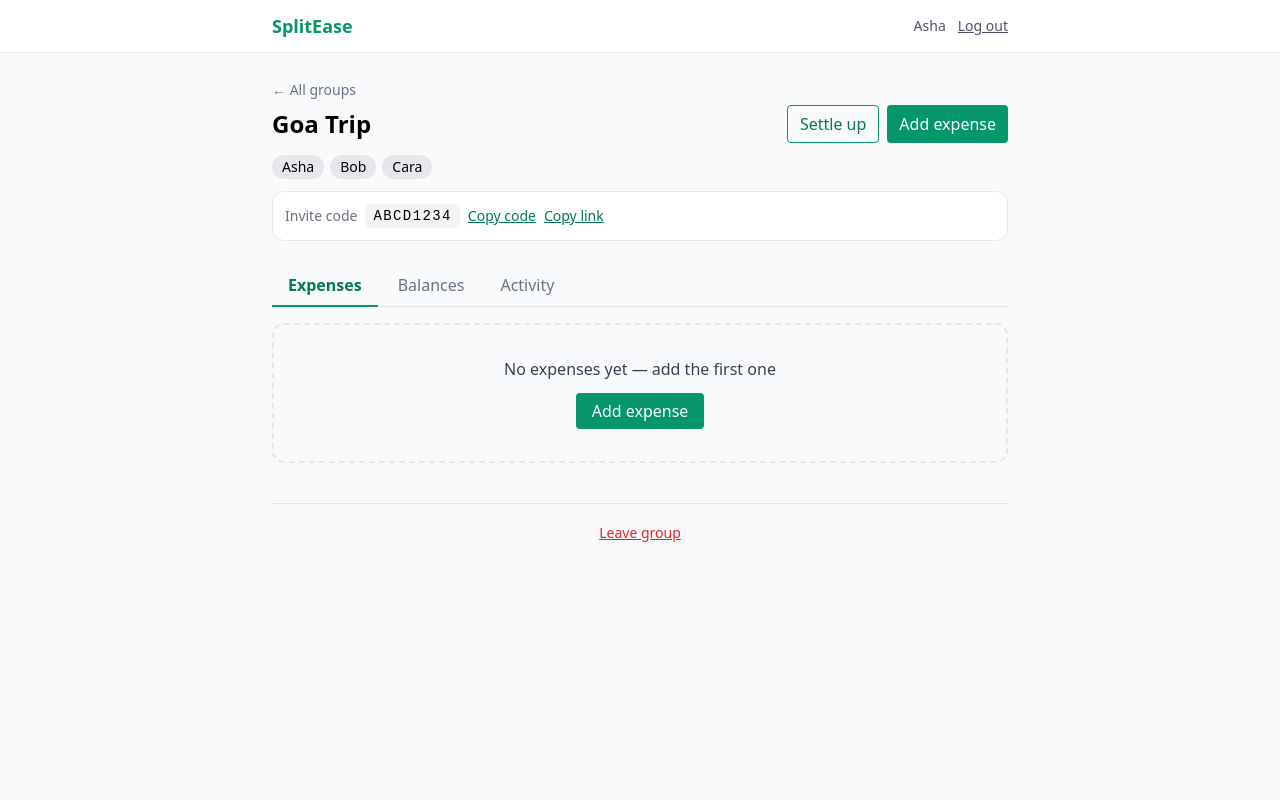
Test: settle up › validates that I am the payer or receiver and the people differ
Click the button "Settle up" at (833, 124), box [787, 105, 879, 143]
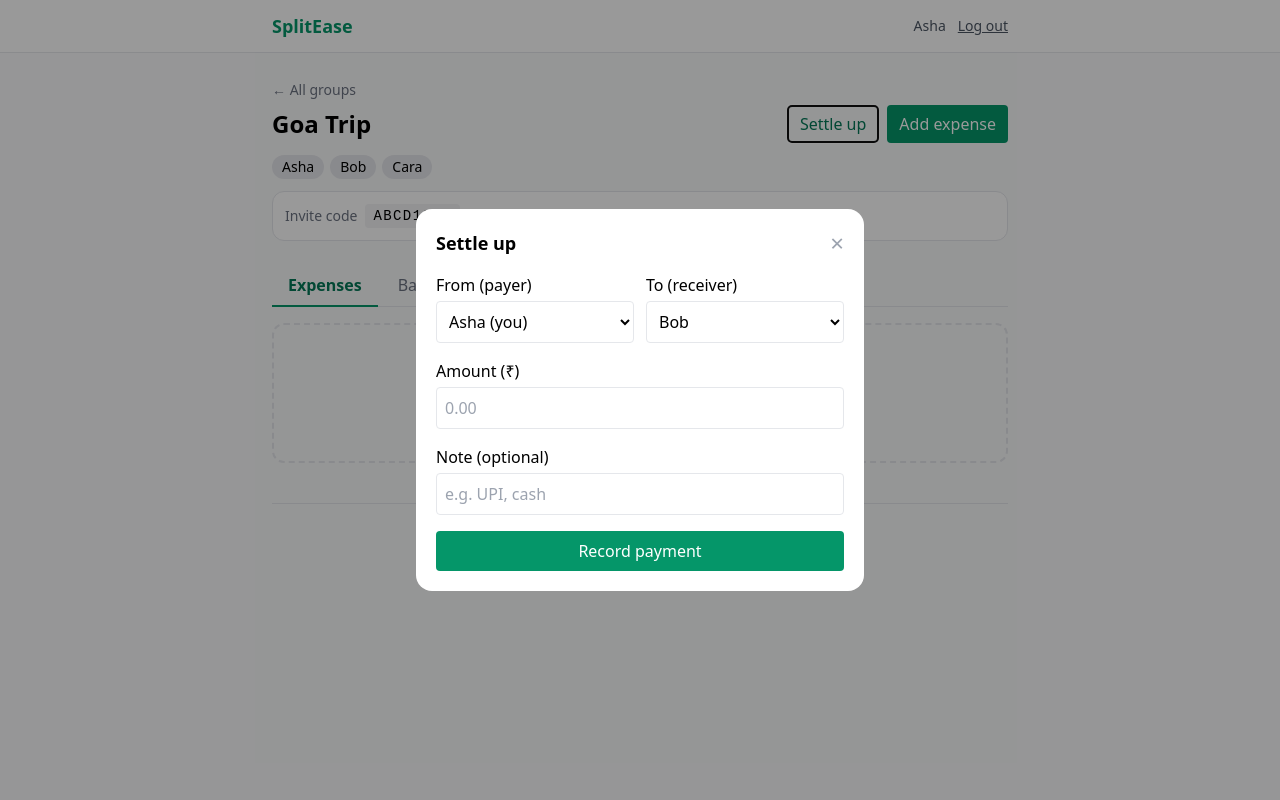
Select "Cara" in the dropdown labelled "From (payer)" at (535, 322), box [436, 301, 634, 343]
Select "Bob" in the dropdown labelled "To (receiver)" at (745, 322), box [646, 301, 844, 343]
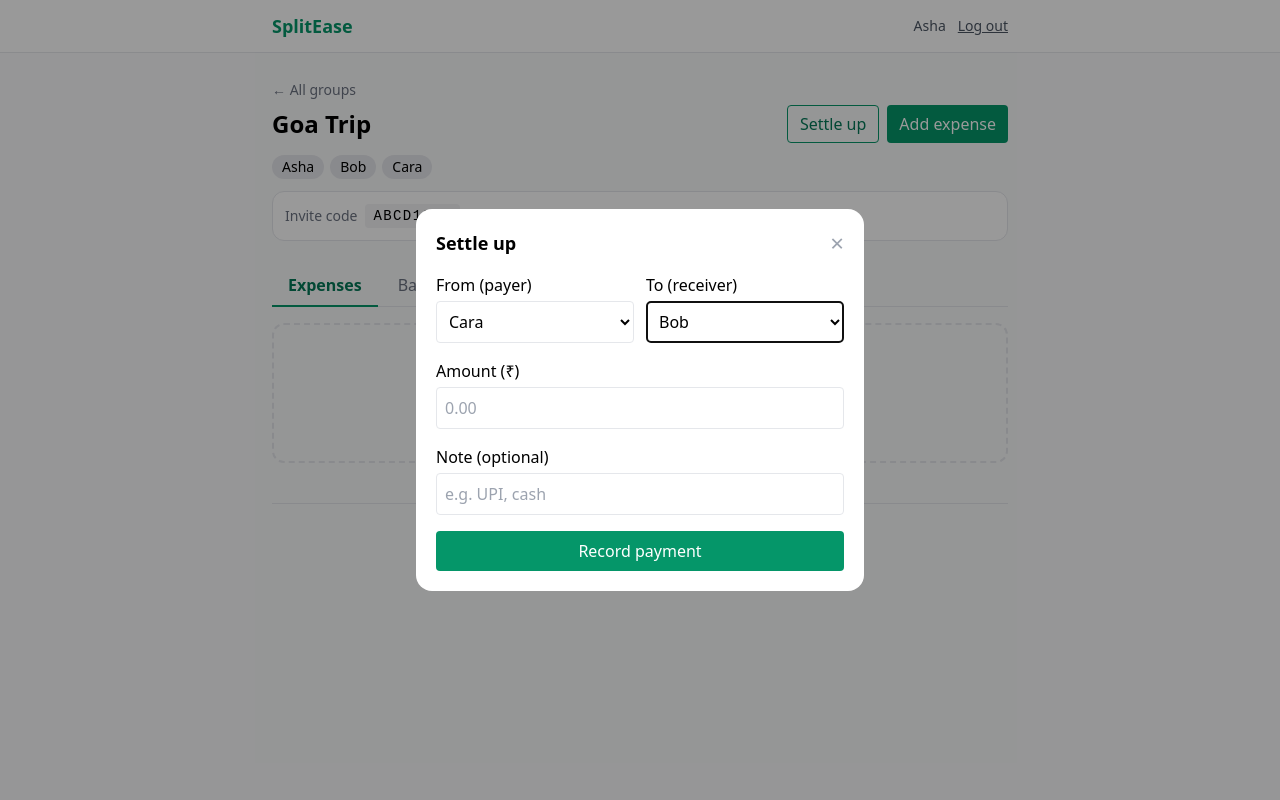
Type "10" into the field labelled "Amount (₹)" at (640, 408), box [436, 387, 844, 429]
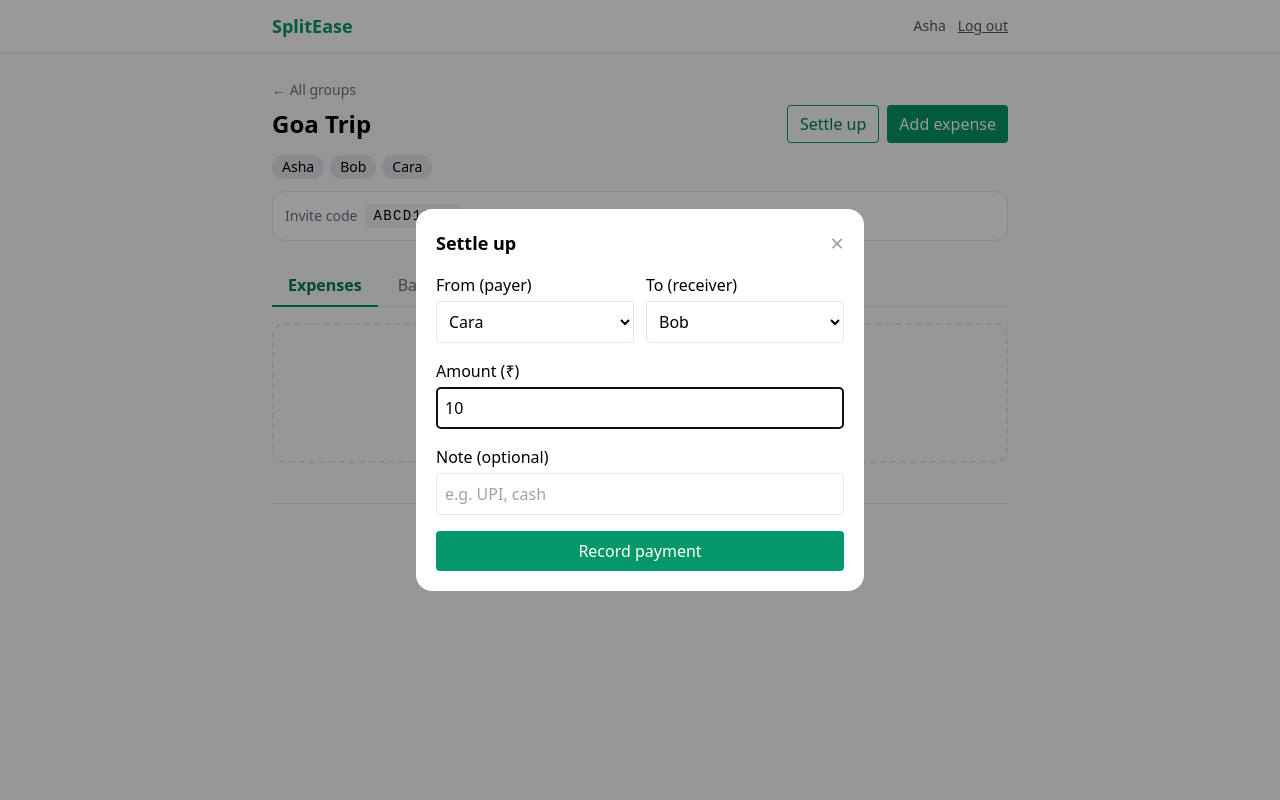
Click the button "Record payment" at (640, 551), box [436, 531, 844, 571]
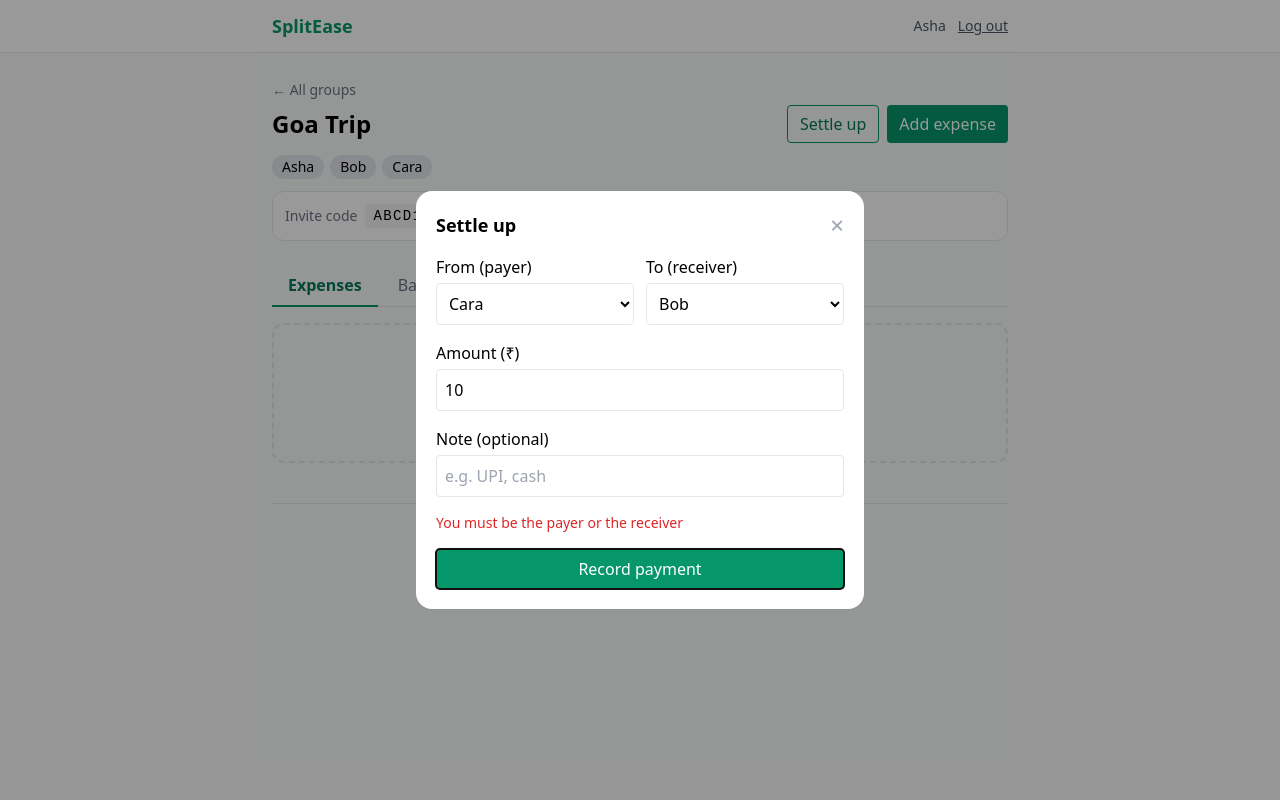
Now the text "You must be the payer or the receiver" is shown, box [436, 513, 683, 532]
Select "Bob" in the dropdown labelled "From (payer)" at (535, 304), box [436, 283, 634, 325]
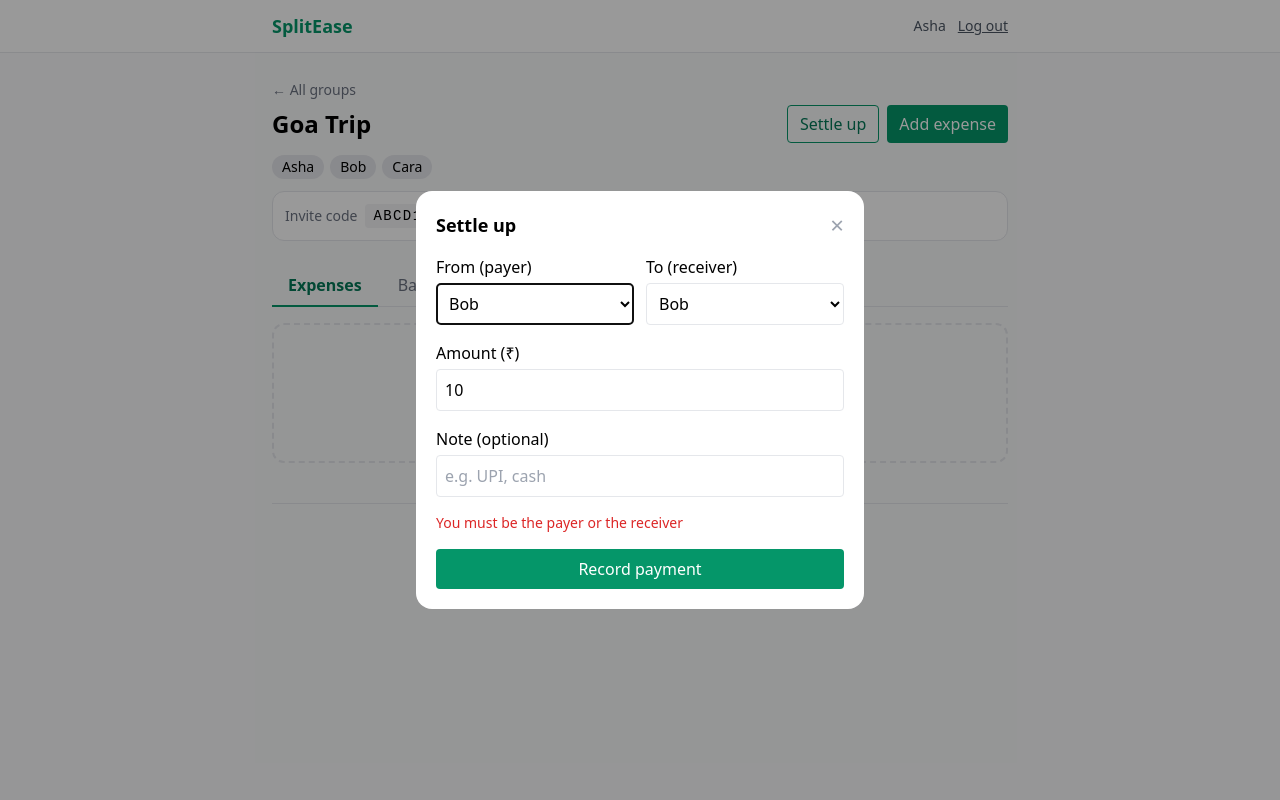
Click the button "Record payment" at (640, 569), box [436, 549, 844, 589]
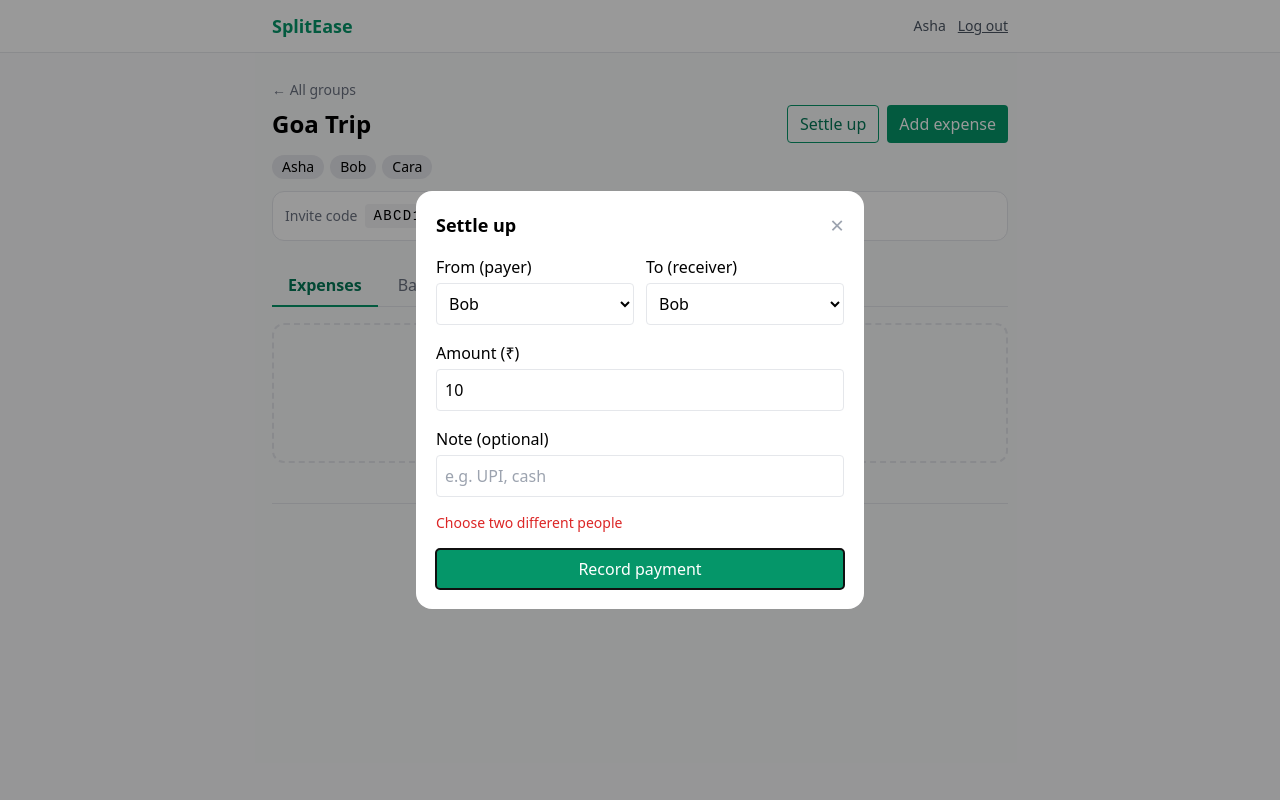
Now the text "Choose two different people" is shown, box [436, 513, 622, 532]
